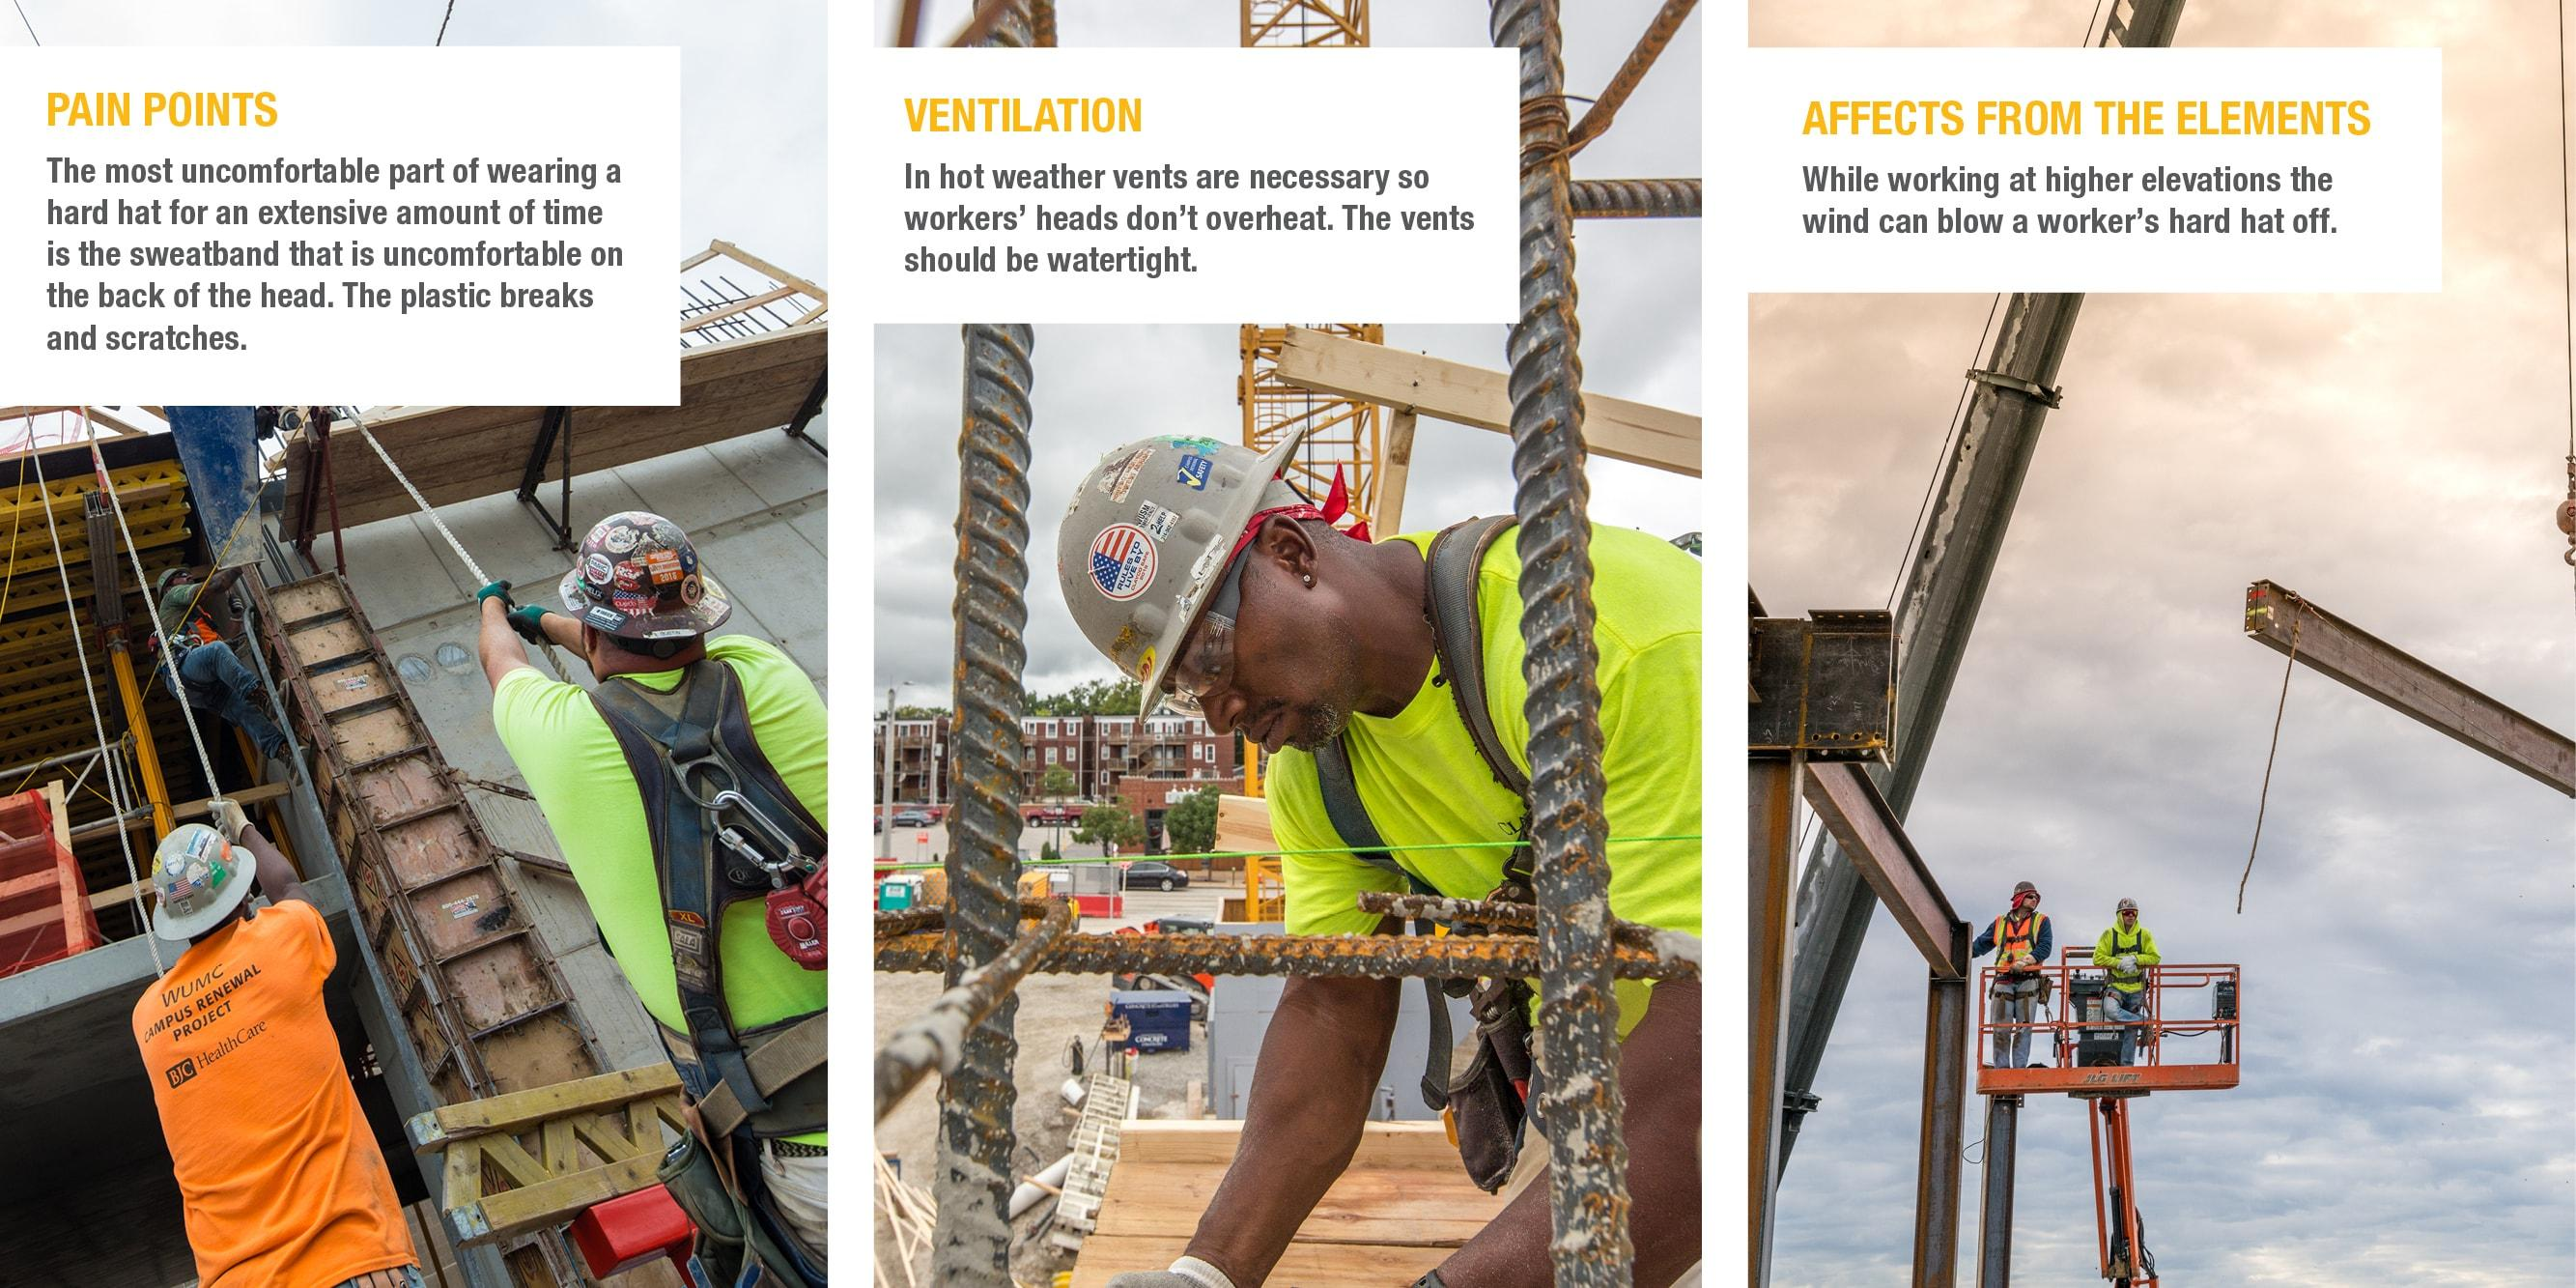helmet: (1048, 404, 1316, 708), (559, 511, 746, 646), (146, 816, 266, 945), (2009, 881, 2037, 902), (2116, 897, 2139, 915)
